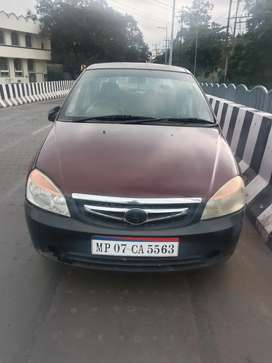MP07CA5563: (91, 239, 178, 256)
